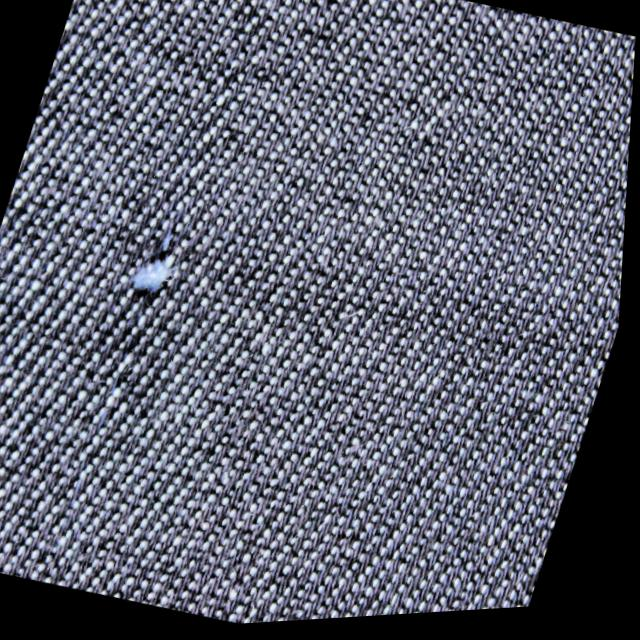Hole: (72, 219, 176, 512)
